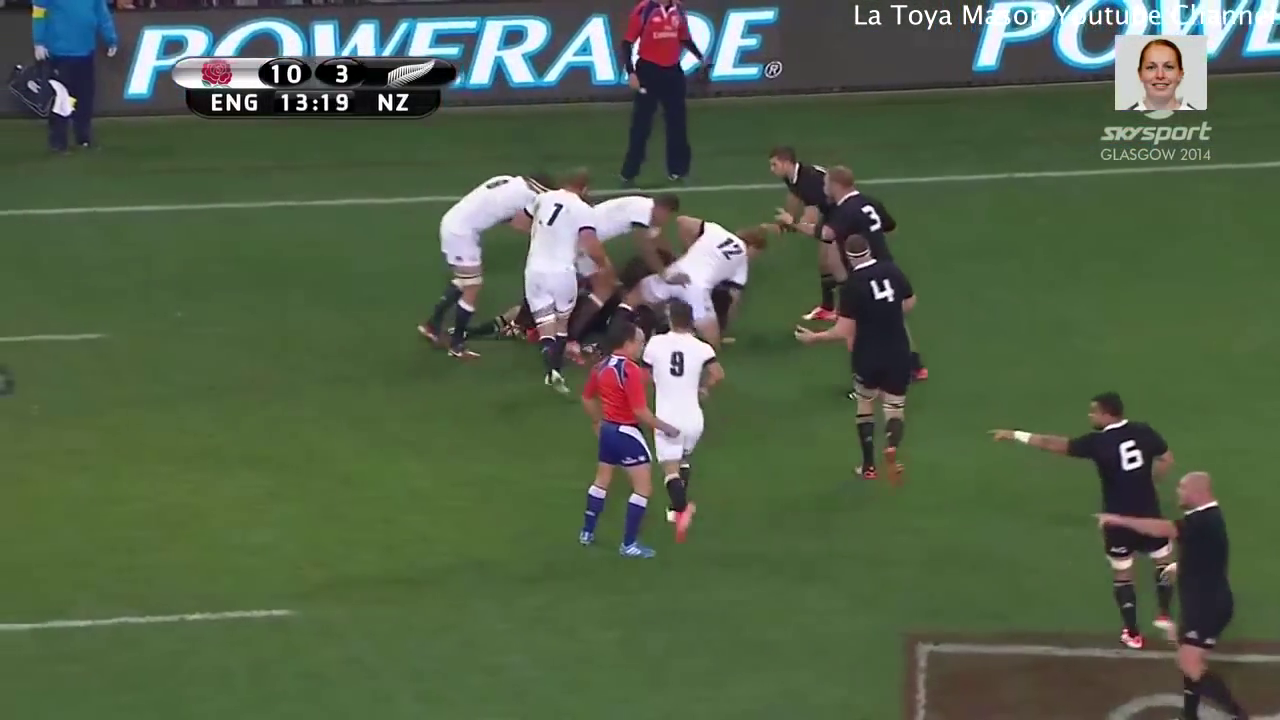player: (985, 387, 1175, 664), (1087, 464, 1242, 720), (790, 233, 925, 489), (812, 165, 937, 382), (410, 164, 542, 368), (566, 316, 663, 567), (605, 222, 777, 358), (641, 297, 730, 548), (565, 178, 684, 361), (523, 171, 607, 404), (758, 146, 846, 340)
ruck: (411, 162, 763, 371)
